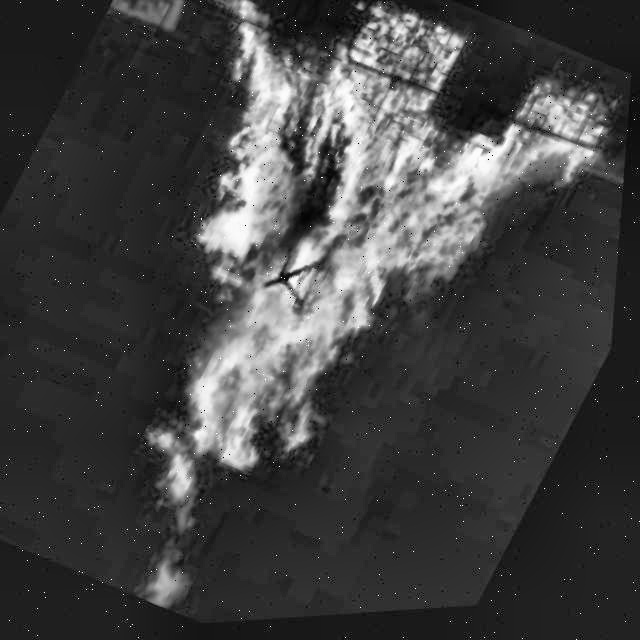Fire: (0, 0, 623, 639)
